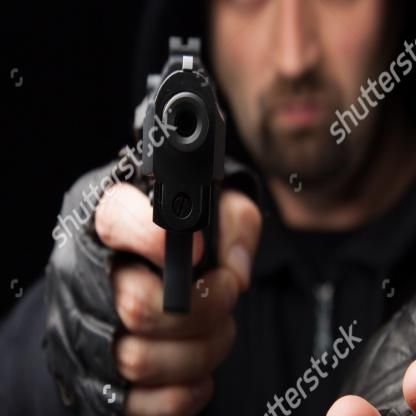gun: (132, 36, 243, 319)
